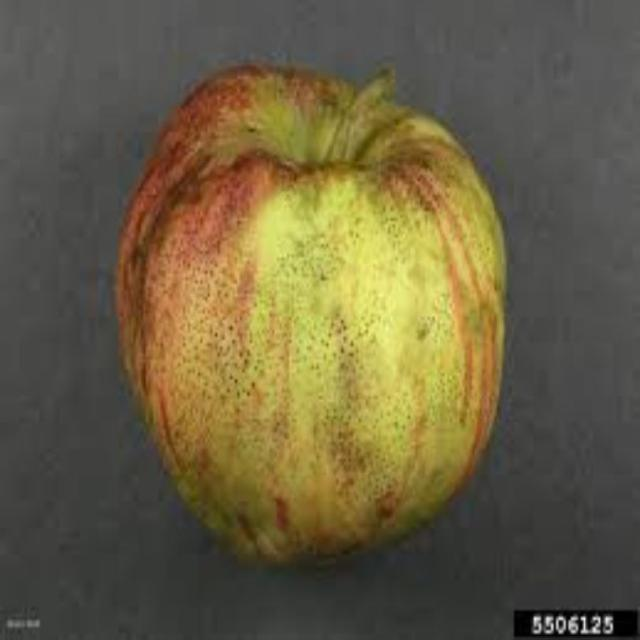Rotten Apple: (103, 25, 523, 567)
